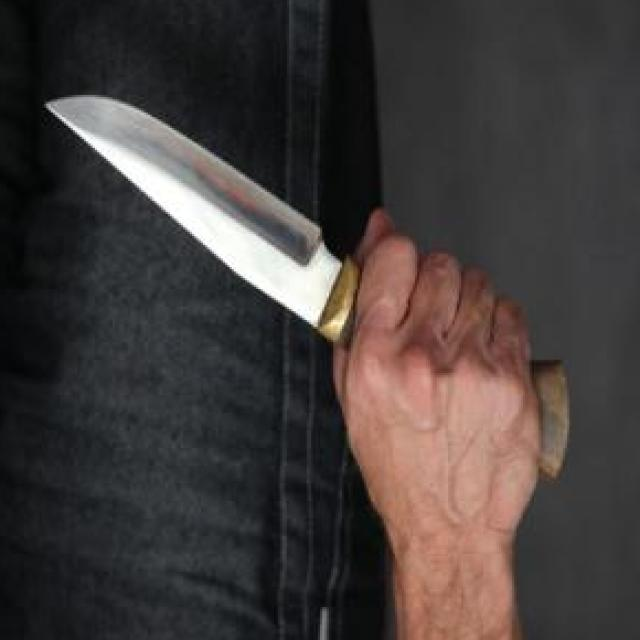knife: (31, 72, 494, 419)
